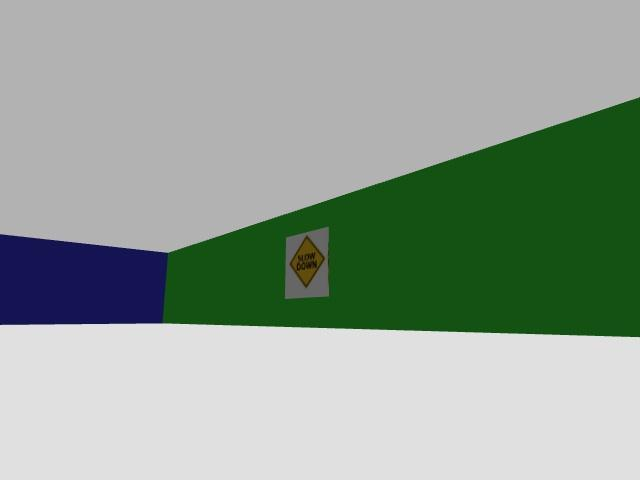slowsign: (285, 227, 328, 298), (284, 228, 328, 297)
